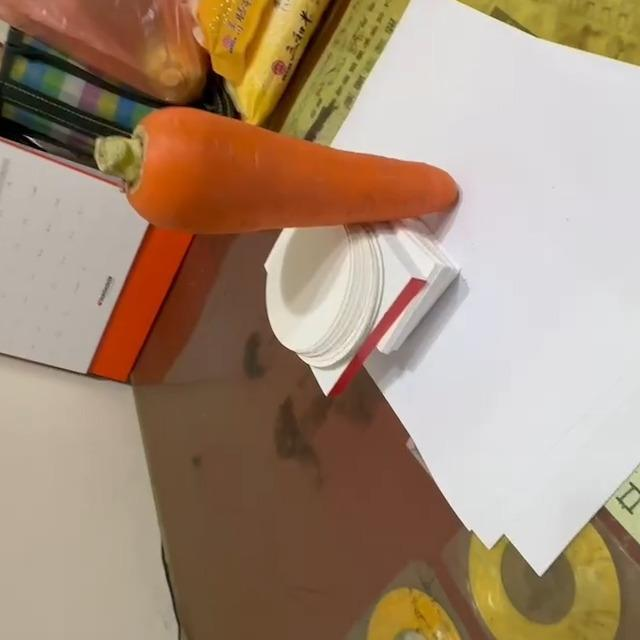carrot: (102, 103, 460, 234)
